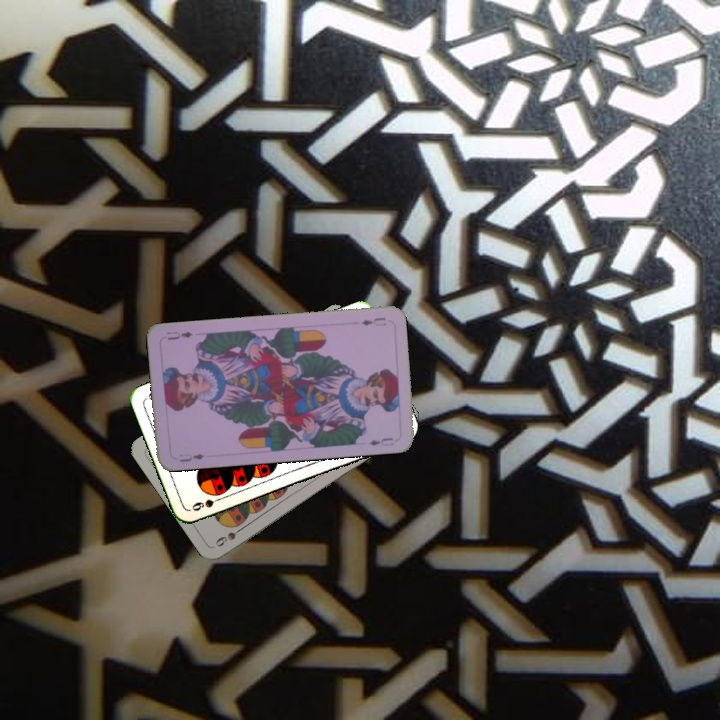EU: (357, 313, 389, 329), (175, 449, 207, 464)
S9: (211, 522, 248, 549), (188, 492, 227, 514)
